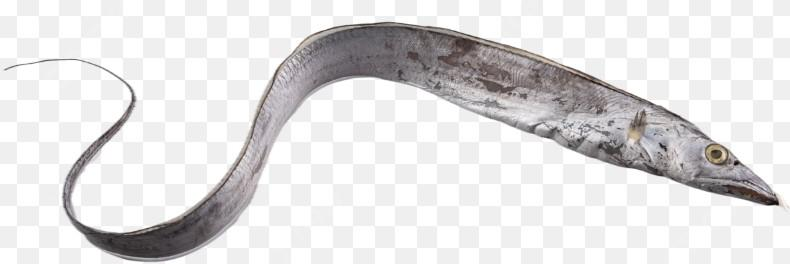fish: (4, 22, 783, 261)
